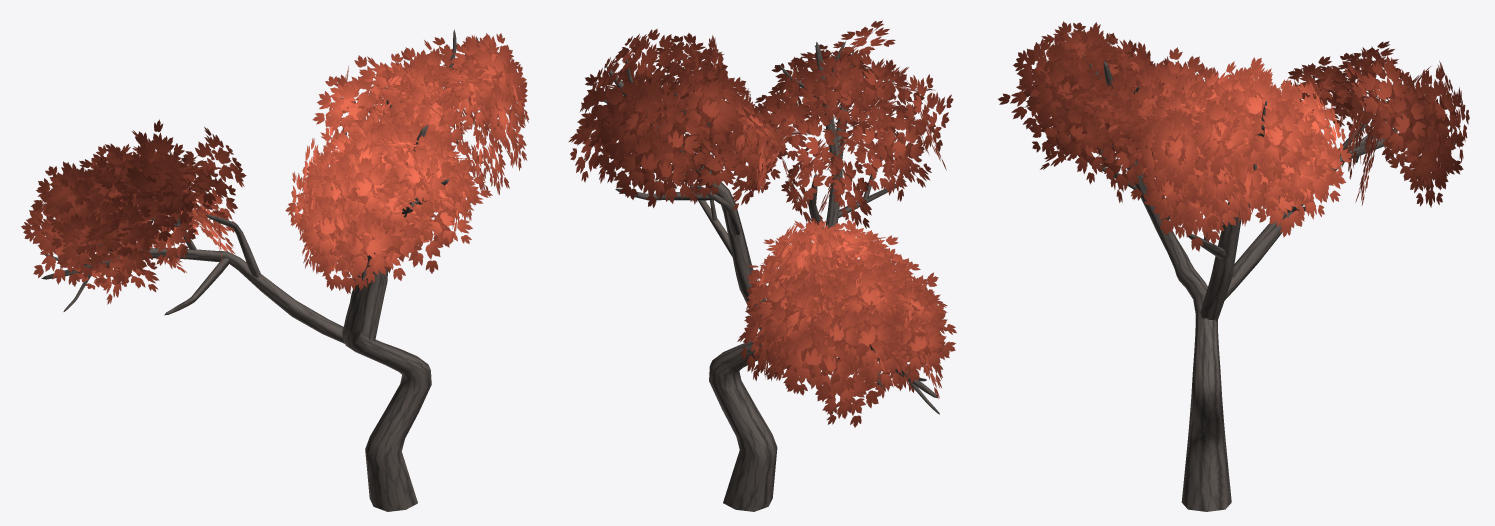
Rendered from bgmaple3.glb.
3 views of the same model, side by side, from view 1: azimuth 30°, elevation 25°; view 2: azimuth 150°, elevation 25°; view 3: azimuth 270°, elevation 25° (orthographic). The views are drawn at different scales.
Parts seen in each view (by area): view 1: MapleTree_2; view 2: MapleTree_2; view 3: MapleTree_2.
Boxes of the visible parts, x1=… form: MapleTree_2: x1=21, y1=29, x2=529, y2=511; MapleTree_2: x1=568, y1=20, x2=956, y2=511; MapleTree_2: x1=998, y1=21, x2=1469, y2=511.
Size of the model in its own units: 6.7 by 6.71 by 6.24.
Materials: 2 (2 with a texture image).
